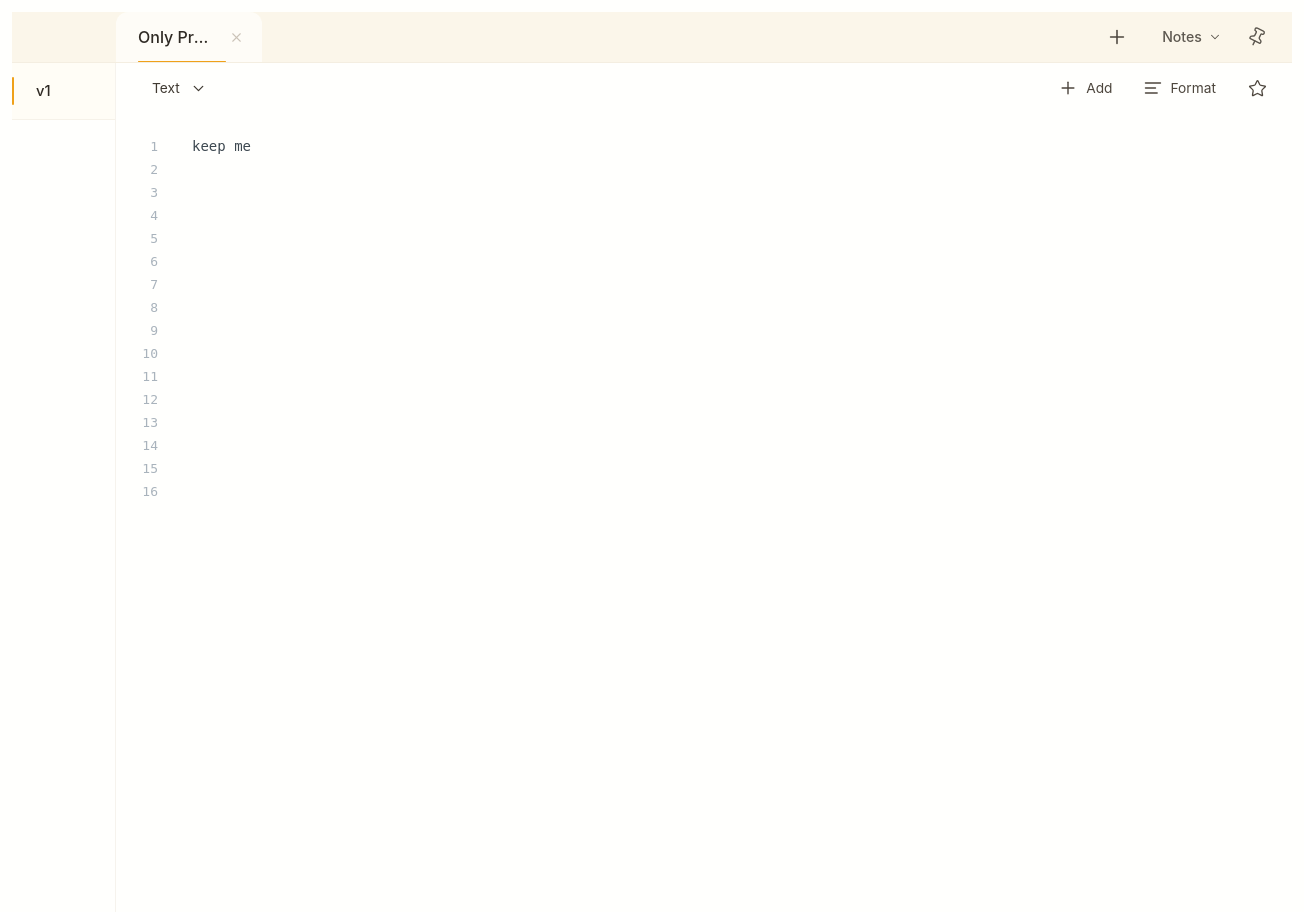
Scenario: App delete undo › restores the original project when undoing deletion of the last project
Right-click the button "Only Project" at (170, 37), box [116, 12, 224, 62]
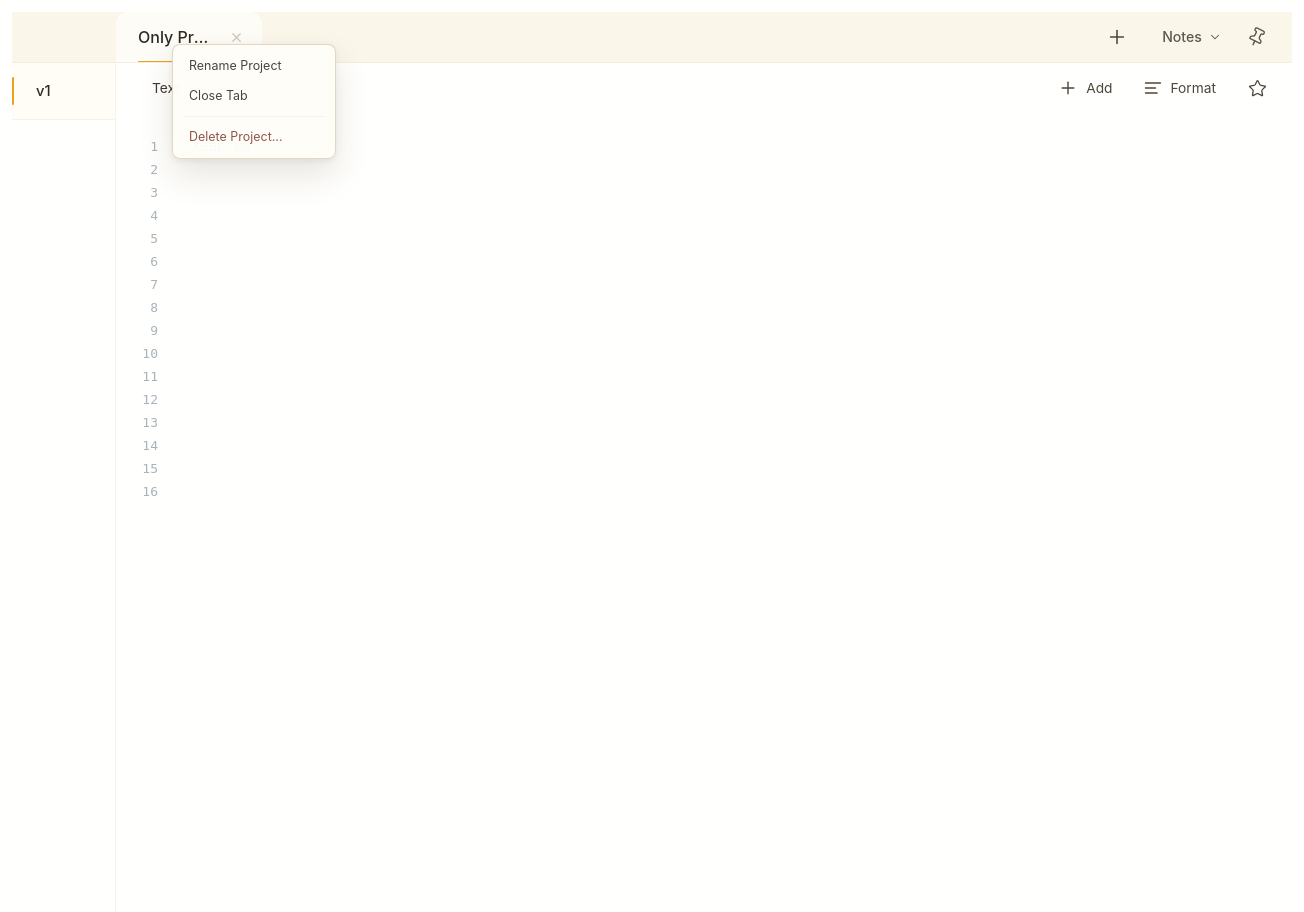
Click the menu item "Delete Project..." at (254, 137), box [179, 122, 329, 152]
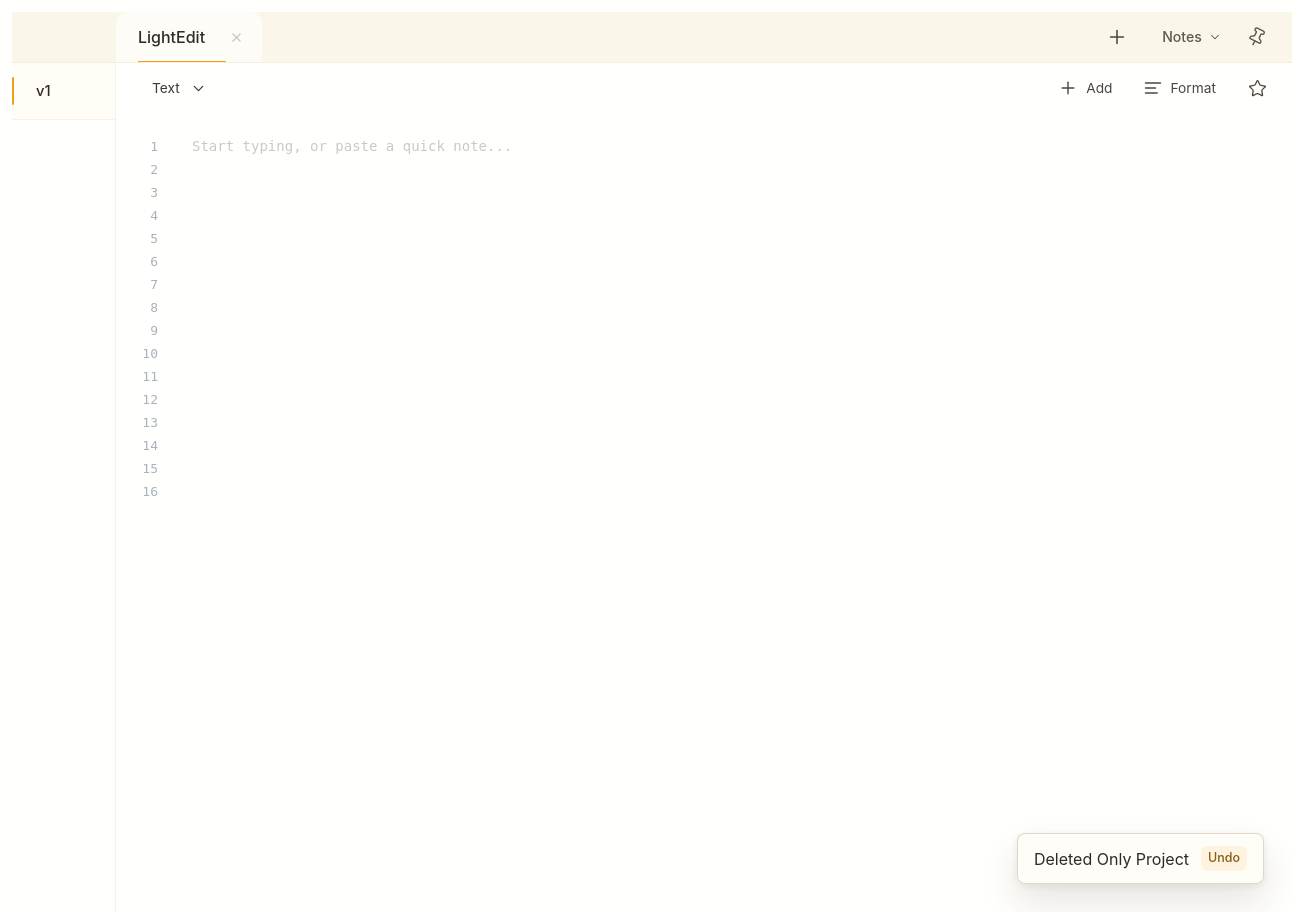
Now the button "LightEdit" is shown, box [116, 12, 224, 62]
Click the button "Undo" at (1224, 859), box [1201, 846, 1247, 871]
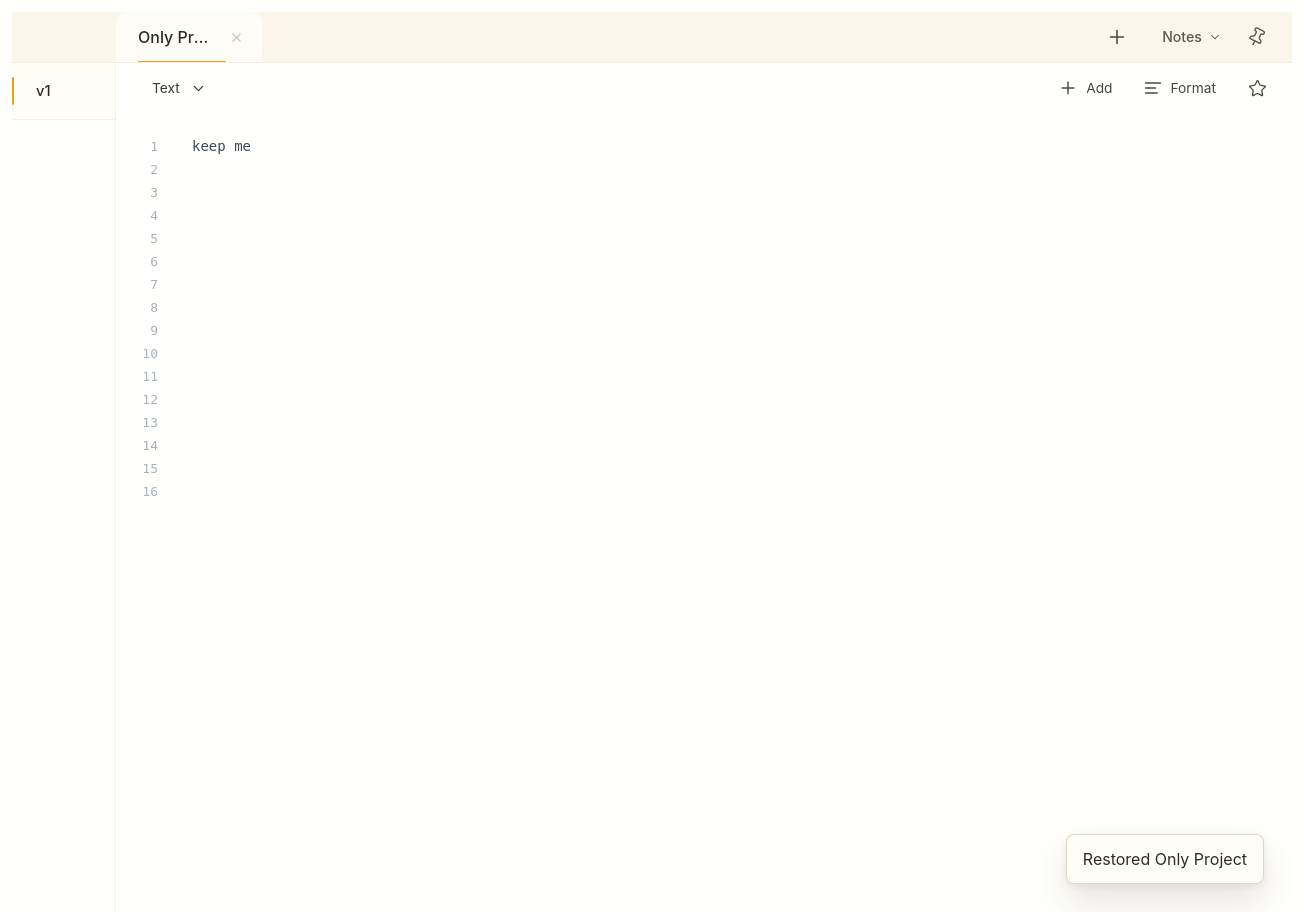
Now the button "Only Project" is shown, box [116, 12, 224, 62]
Now the button "LightEdit" is gone
